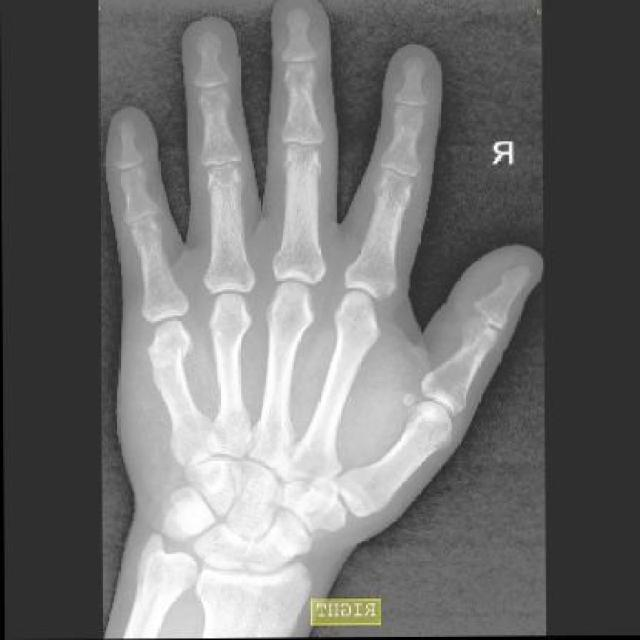Fracture: (139, 329, 190, 376)
